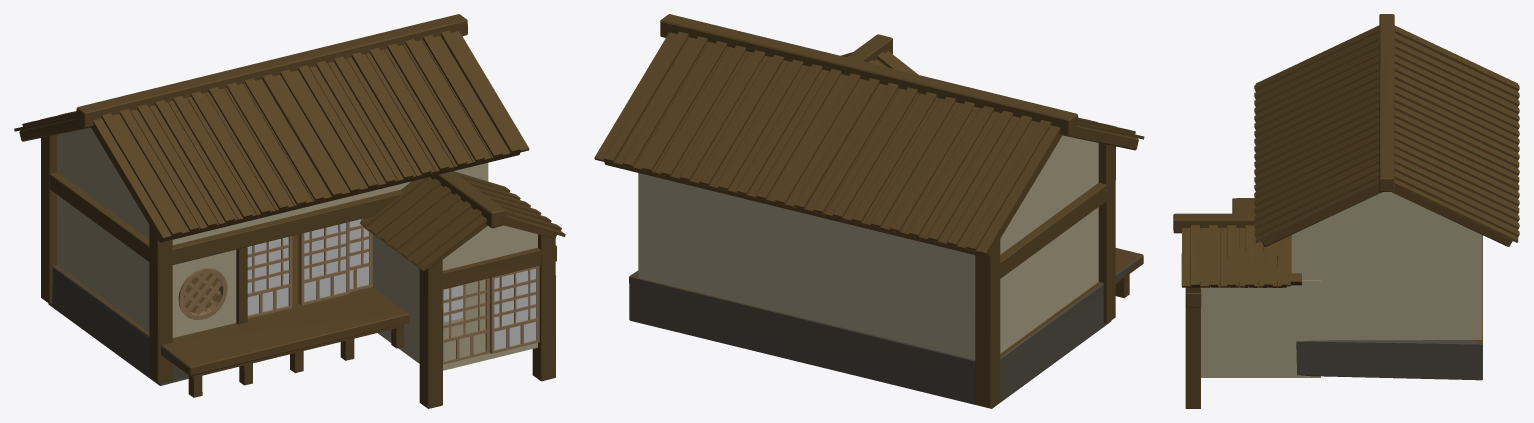
File: casa-te.glb
3 renders of one model, left to right at view 1: azimuth 30°, elevation 25°; view 2: azimuth 150°, elevation 25°; view 3: azimuth 270°, elevation 25°, orthographic. The views are drawn at different scales.
Parts seen in each view (by area): view 1: casa-te; view 2: casa-te; view 3: casa-te.
Boxes of the visible parts, <box> form: casa-te: <box>14,14,565,408</box>; casa-te: <box>594,14,1144,408</box>; casa-te: <box>1173,14,1519,408</box>.
Size of the model in its own units: 1 by 0.6788 by 0.8865.
